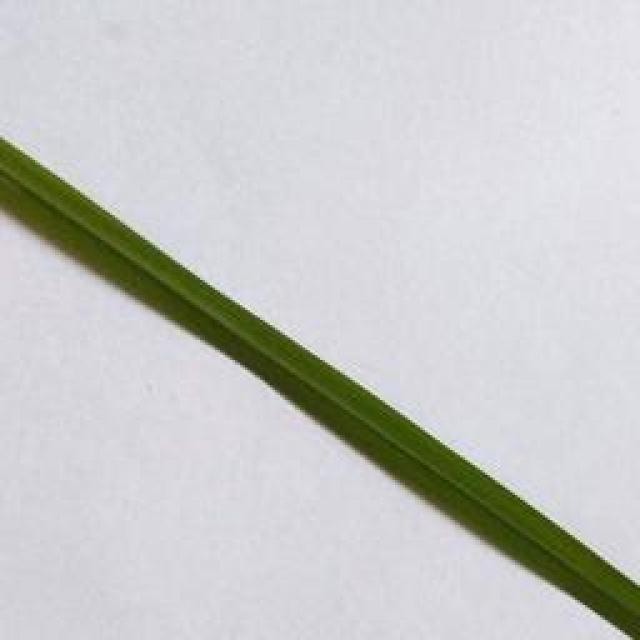Healthy-Plant: (0, 142, 640, 640)
